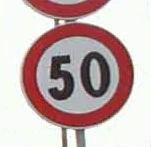limite 50: (17, 21, 135, 127)
